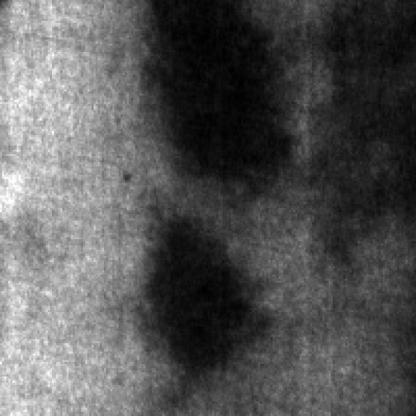patches: (142, 0, 294, 181), (316, 0, 416, 214), (146, 206, 270, 370)
